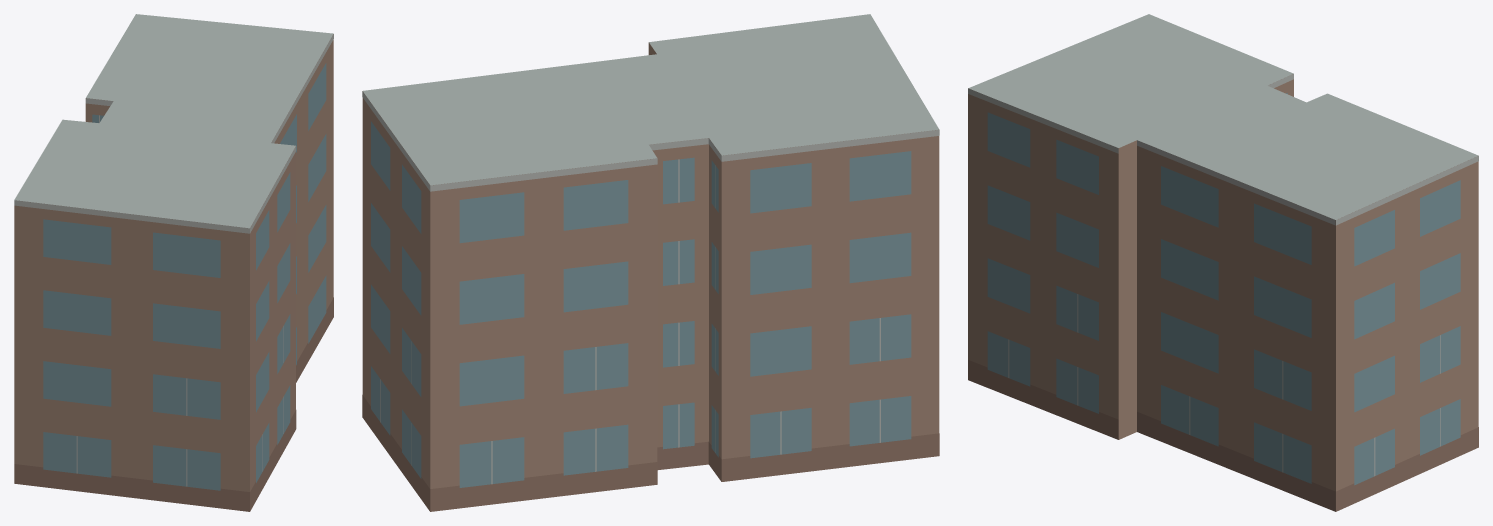
File: survey-upis-32932482.glb
The picture shows the model from 3 angles, left to right: view 1: azimuth 30°, elevation 25°; view 2: azimuth 150°, elevation 25°; view 3: azimuth 270°, elevation 25°; orthographic projection. The views are drawn at different scales.
Parts seen in each view (by area): view 1: survey-upis-32932482.tmp; view 2: survey-upis-32932482.tmp; view 3: survey-upis-32932482.tmp.
Boxes of the visible parts, x1=… form: survey-upis-32932482.tmp: x1=14, y1=14, x2=333, y2=511; survey-upis-32932482.tmp: x1=362, y1=14, x2=939, y2=511; survey-upis-32932482.tmp: x1=968, y1=14, x2=1478, y2=511.
Bounding box in the file's own units: 19.41 × 12.81 × 20.33.
